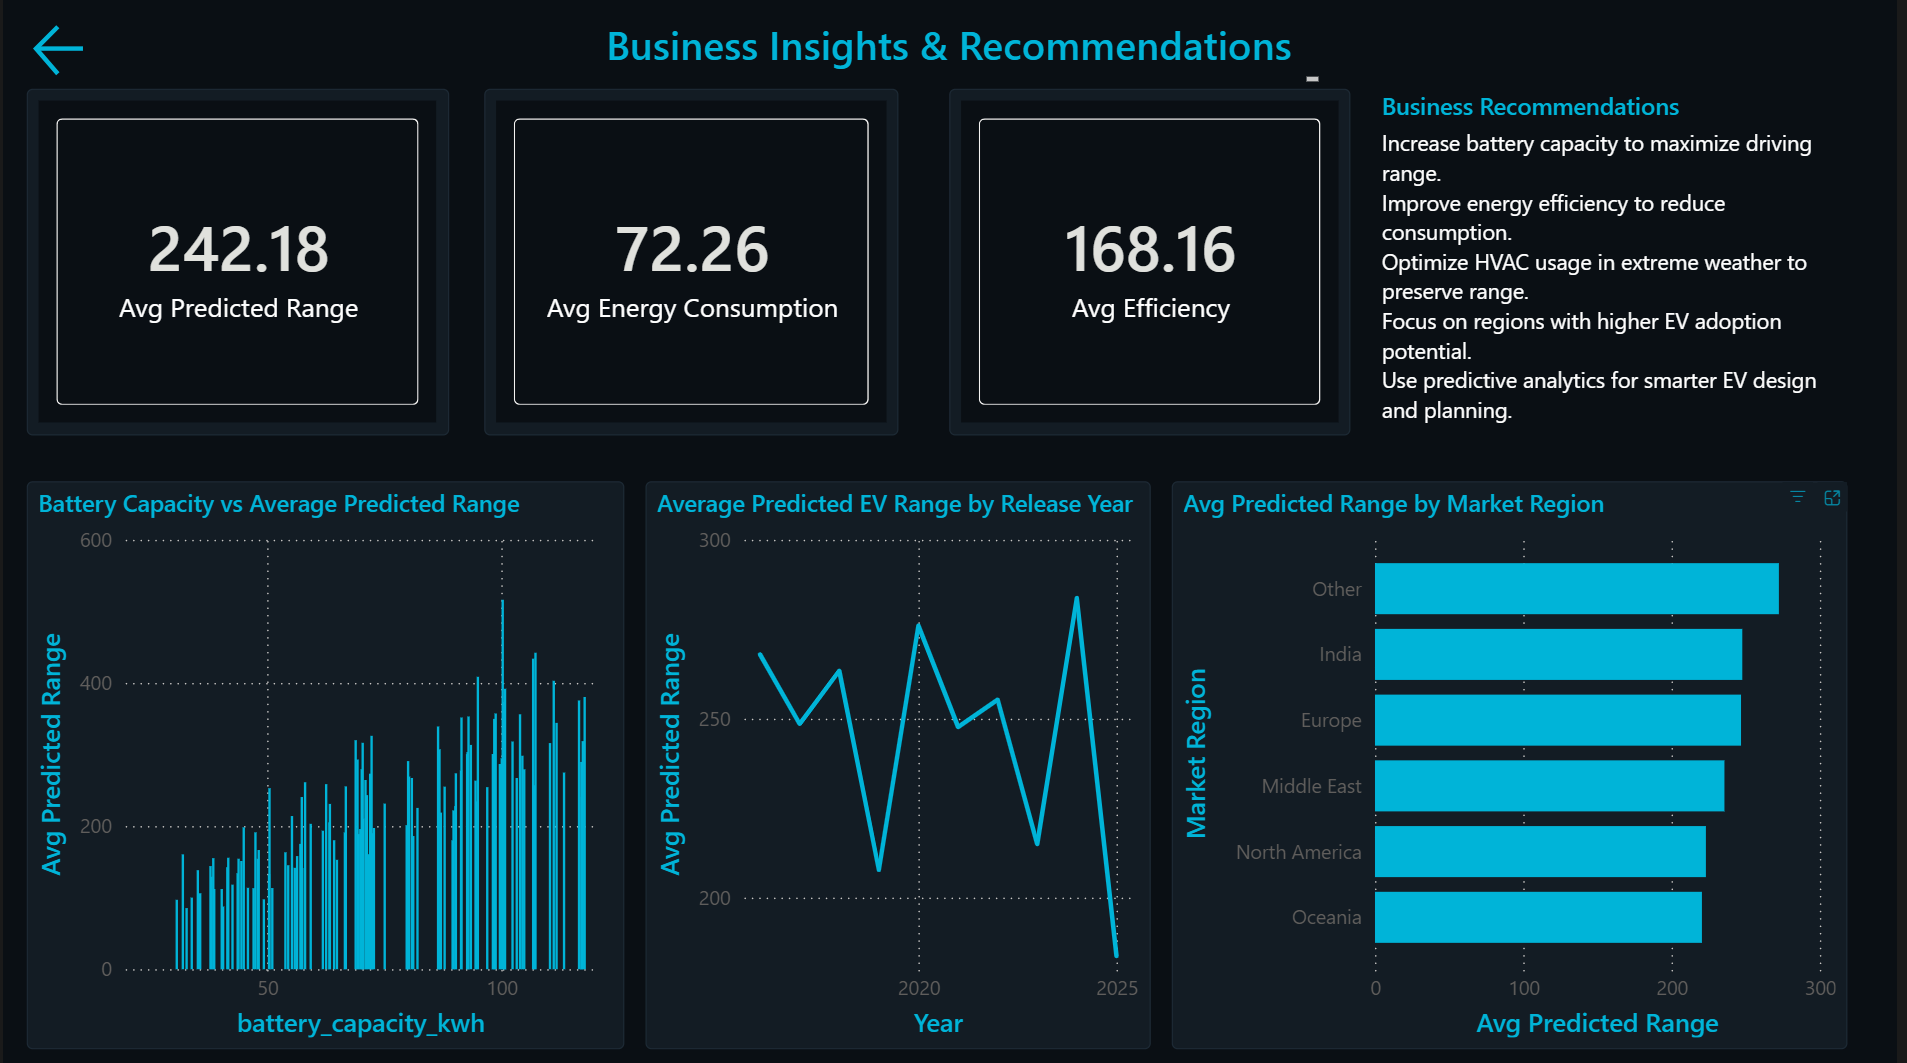

The page's visual inventory and layout, read from the dashboard file:
{"tool":"powerbi","page":{"name":"Business Insights & Recommendations","canvas":[1280,720],"ordinal":4},"visuals":[{"type":"cardVisual","fields":{"Data":["EV_Range_Predictions.Avg Predicted Range"]},"box":[15.7,60,285.7,234.3],"z":0},{"type":"cardVisual","fields":{"Data":["EV_Range_Predictions.Avg Energy Consumption"]},"box":[325.7,60,280,234.3],"z":1000},{"type":"cardVisual","fields":{"Data":["EV_Range_Predictions.Avg Efficiency"]},"box":[640,60,271.4,234.3],"z":2000},{"type":"textbox","title":"Business Insights & Recommendations","box":[384.3,11.4,510,48.6],"z":3000},{"type":"clusteredColumnChart","title":"Battery Capacity vs Average Predicted Range","fields":{"Category":["EV_Range_Predictions.battery_capacity_kwh"],"Y":["EV_Range_Predictions.Avg Predicted Range"]},"box":[15.7,325.7,404.3,384.3],"z":4000},{"type":"clusteredBarChart","fields":{"Category":["EV_Range_Predictions.Market Region"],"Y":["EV_Range_Predictions.Avg Predicted Range"]},"box":[790,325.7,457.1,384.3],"z":5000},{"type":"lineChart","title":"Average Predicted EV Range by Release Year","fields":{"Category":["EV_Range_Predictions.Release Date.Variation.Date Hierarchy.Year"],"Y":["EV_Range_Predictions.Avg Predicted Range"]},"box":[434.3,325.7,341.4,384.3],"z":6000},{"type":"textbox","title":"Business Recommendations","box":[927.1,60,320,247.1],"z":7000},{"type":"actionButton","box":[15.7,11.4,72.9,44.3],"z":8000}]}

Visuals, with their boxes in screenshot pixels (x1, y1, x2, y2), scaled from the page's 1280x720 canvas onto the 1907x1063 screenshot:
cardVisual - EV_Range_Predictions.Avg Predicted Range: (23,89,449,435)
cardVisual - EV_Range_Predictions.Avg Energy Consumption: (485,89,902,435)
cardVisual - EV_Range_Predictions.Avg Efficiency: (954,89,1358,435)
"Business Insights & Recommendations" textbox: (573,17,1332,89)
"Battery Capacity vs Average Predicted Range" clusteredColumnChart: (23,481,626,1048)
clusteredBarChart - EV_Range_Predictions.Market Region x EV_Range_Predictions.Avg Predicted Range: (1177,481,1858,1048)
"Average Predicted EV Range by Release Year" lineChart: (647,481,1156,1048)
"Business Recommendations" textbox: (1381,89,1858,453)
actionButton: (23,17,132,82)
